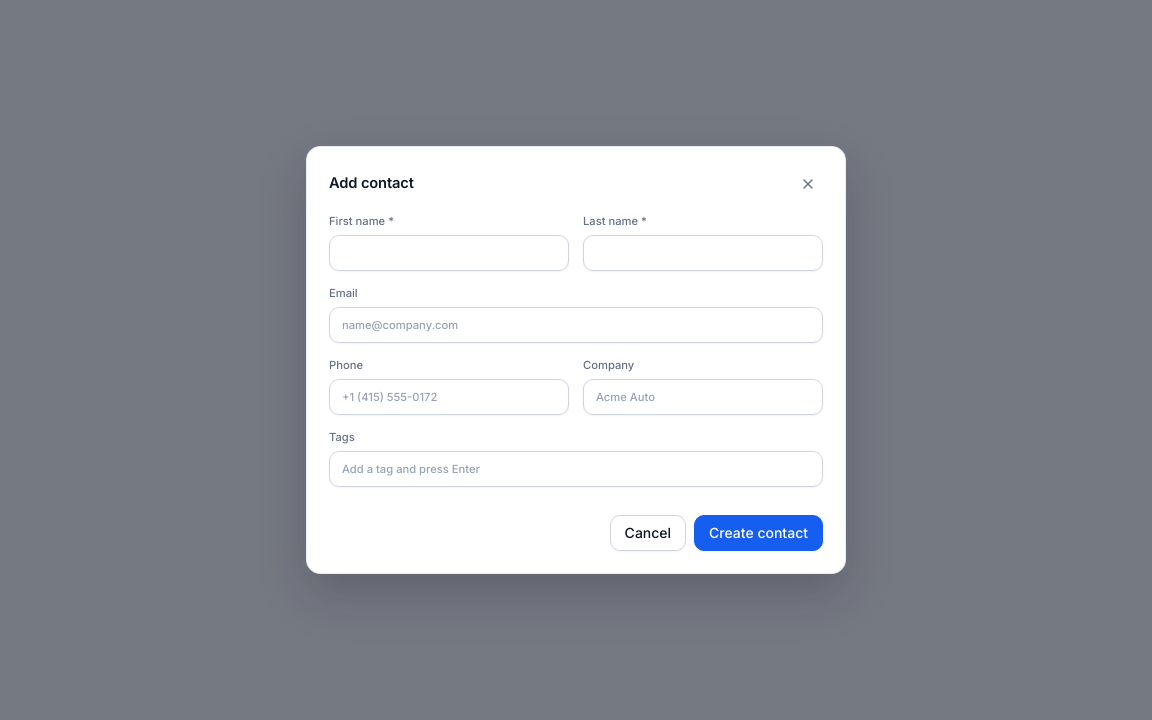
Test: ContactFormModal › rejects invalid tag names inline
The width and height of the screenshot is (1152, 720).
Type "a,b" into the field named "Add a tag" at (576, 470), box [329,452,823,488]
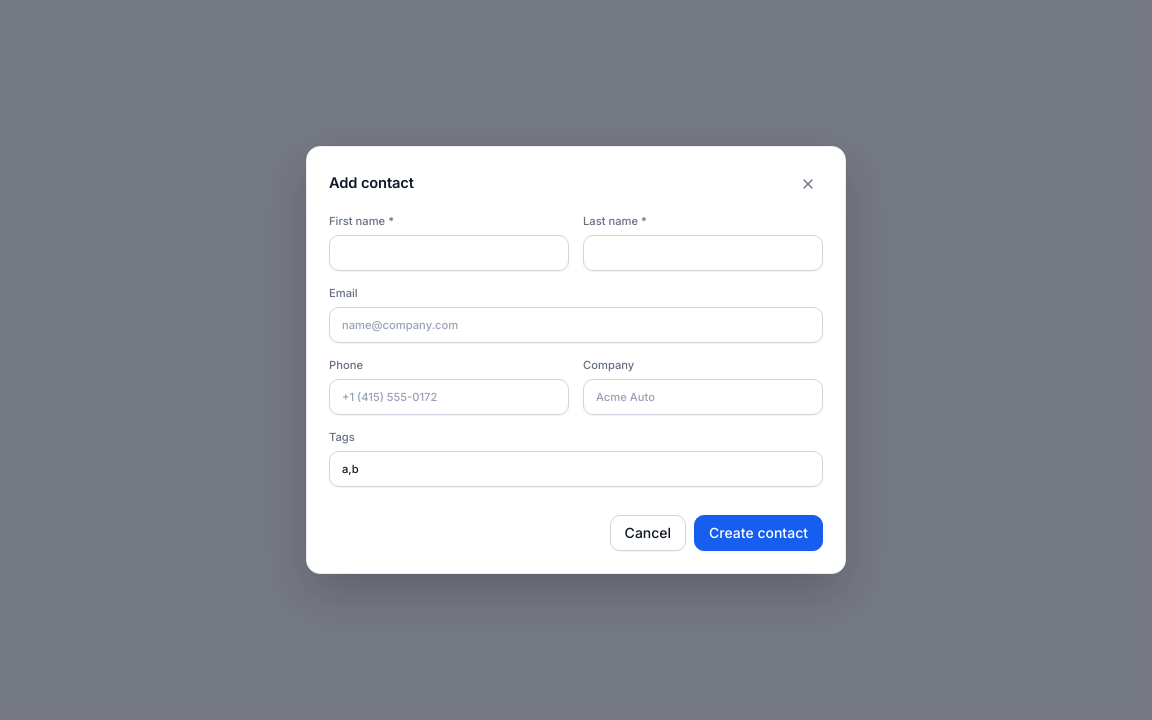
Press Enter in the field named "Add a tag", box [329,452,823,488]
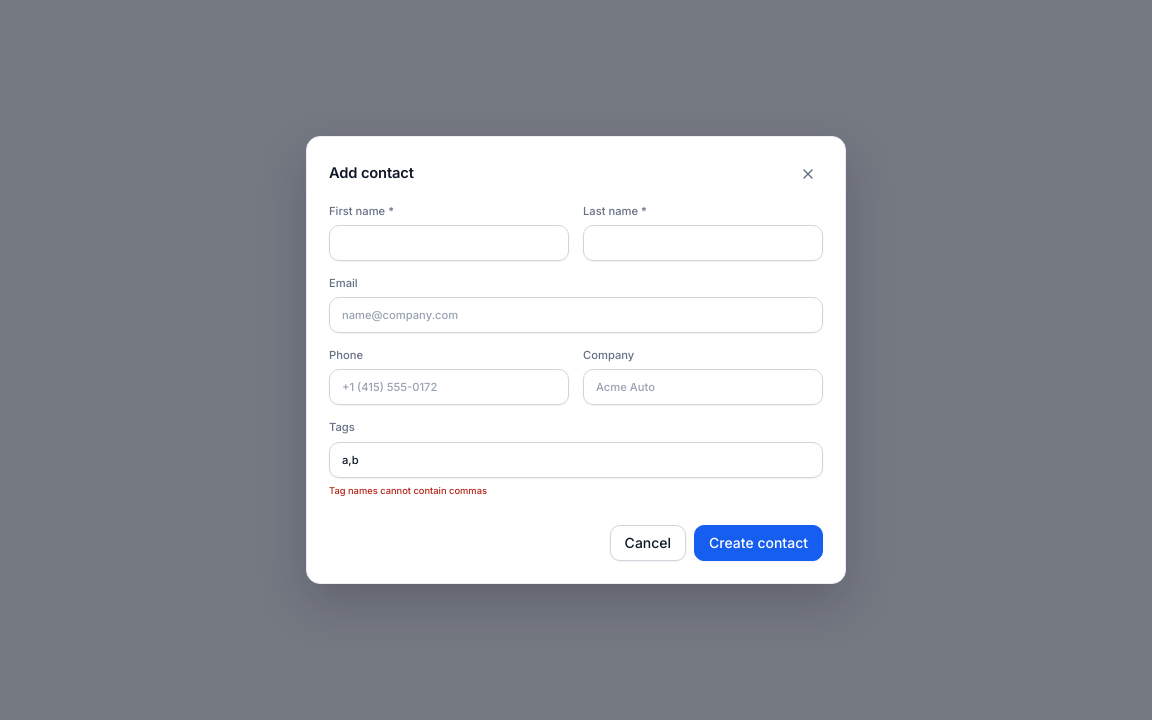
Expected: the text "cannot contain commas" is shown, [329,485,487,496]
